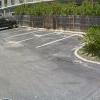Car: (0, 10, 20, 35)
